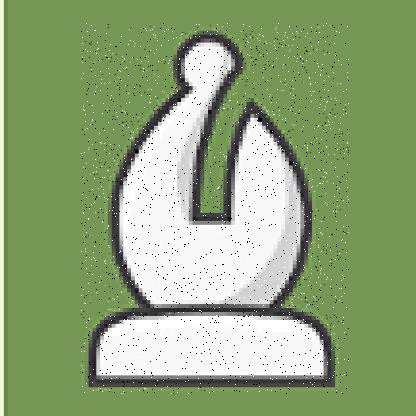White Bishop: (81, 24, 350, 396)
